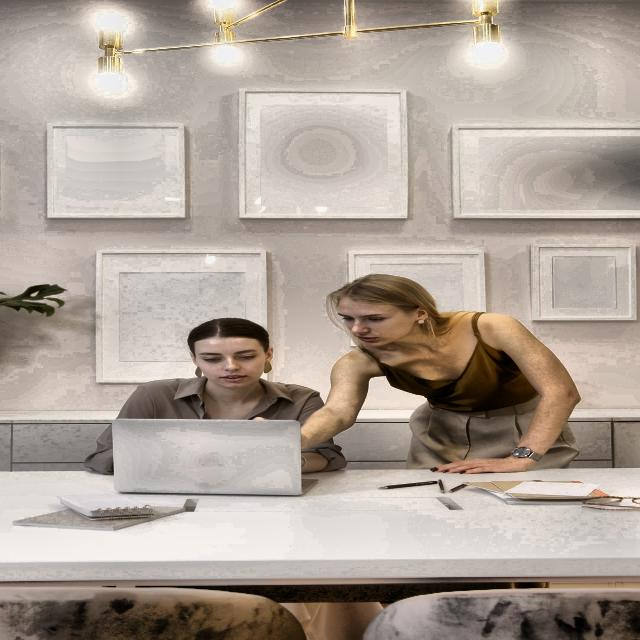not-gloved: (418, 445, 553, 482)
